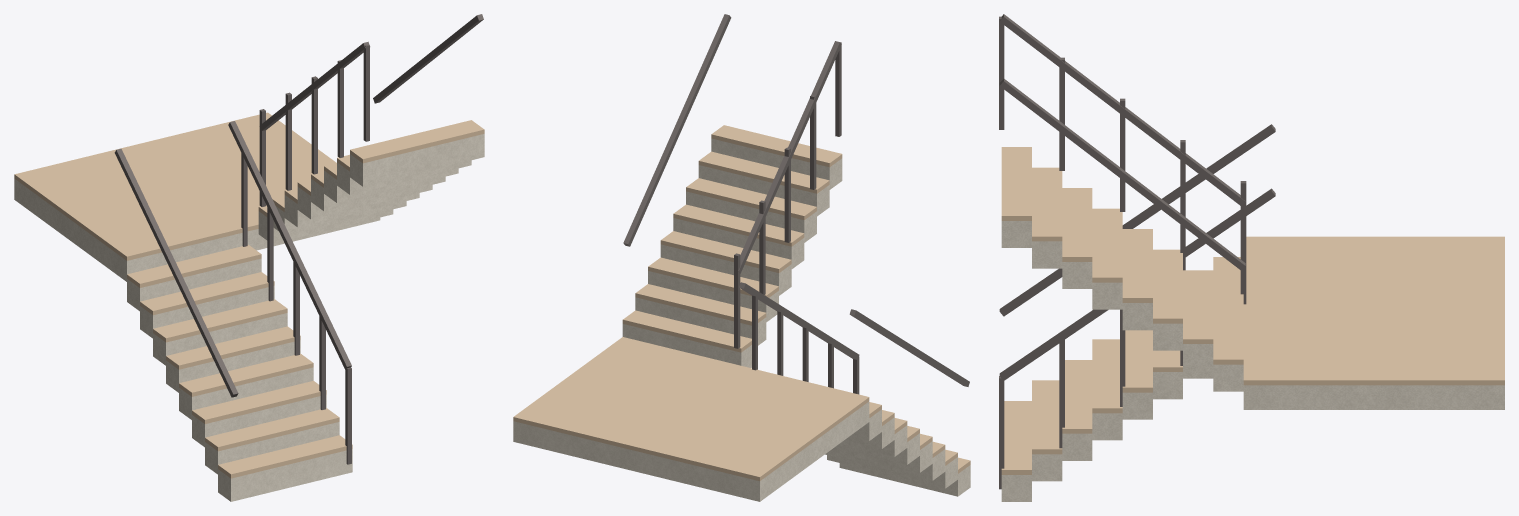
File: stairs_u_3m.glb
3 views of the same model, side by side, from view 1: azimuth 30°, elevation 25°; view 2: azimuth 150°, elevation 25°; view 3: azimuth 270°, elevation 25° (orthographic). The views are drawn at different scales.
Parts seen in each view (by area): view 1: stairs_u_3m_floor, stairs_u_3m_plaster, stairs_u_3m_iron; view 2: stairs_u_3m_floor, stairs_u_3m_plaster, stairs_u_3m_iron; view 3: stairs_u_3m_floor, stairs_u_3m_plaster, stairs_u_3m_iron.
Part boxes in pixels (x1,y1,x2,y2): stairs_u_3m_floor: (14,112,484,478); stairs_u_3m_plaster: (14,134,484,501); stairs_u_3m_iron: (114,14,483,464); stairs_u_3m_floor: (513,125,970,481); stairs_u_3m_plaster: (513,138,970,501); stairs_u_3m_iron: (623,14,969,394); stairs_u_3m_floor: (1001,147,1504,474); stairs_u_3m_plaster: (1001,221,1504,501); stairs_u_3m_iron: (999,14,1275,489).
Bounding box in the file's own units: 2.5 × 4.01 × 3.72.
3 materials, 1 textured.
